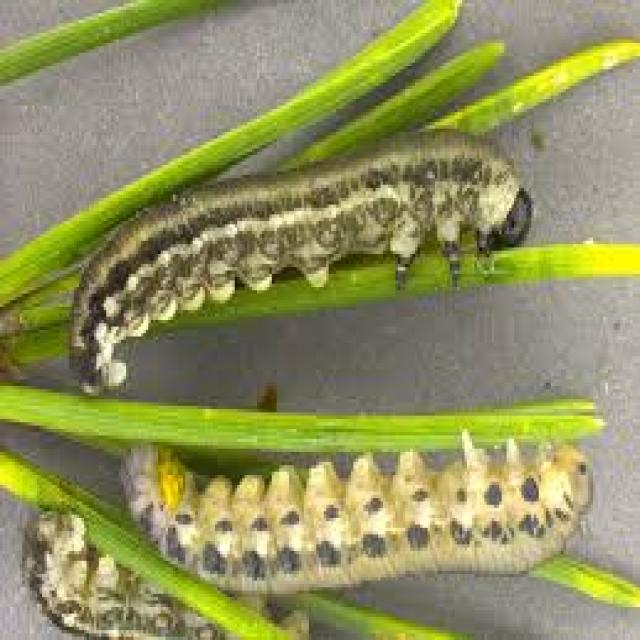Saw Fly: (60, 120, 537, 406), (115, 426, 602, 602)
